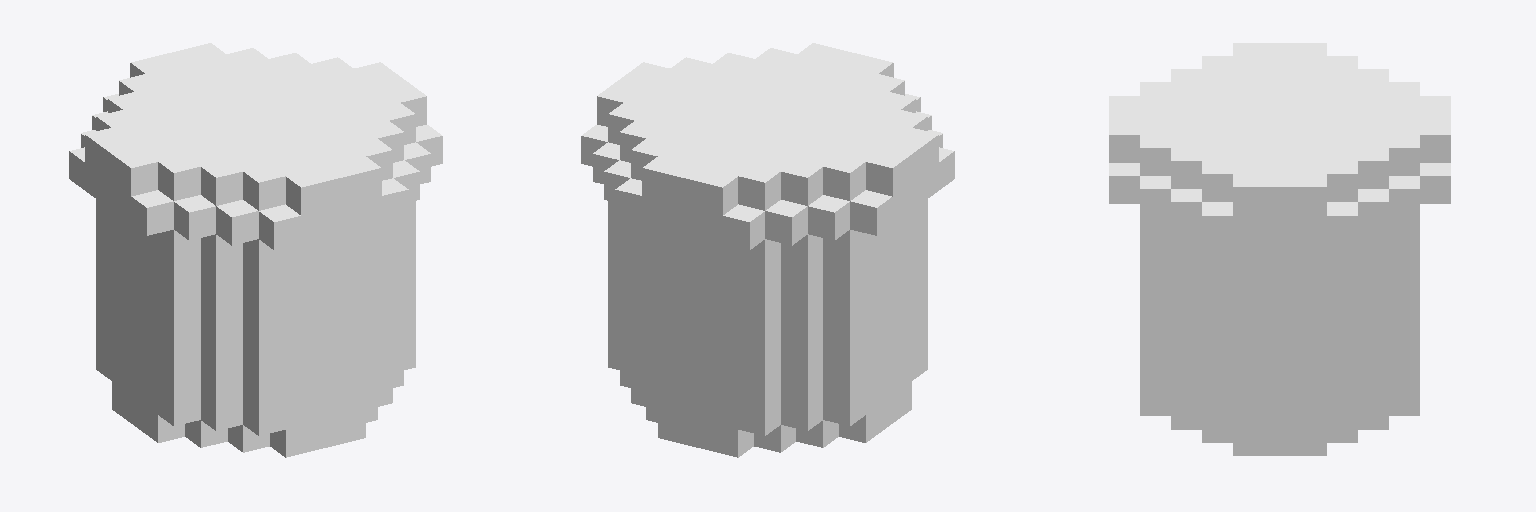
The model's file is confiot.obj.
The picture shows the model from 3 angles: view 1: azimuth 30°, elevation 25°; view 2: azimuth 150°, elevation 25°; view 3: azimuth 270°, elevation 25°; orthographic projection.
Visible parts, largest first — view 1: object 1; view 2: object 1; view 3: object 1.
Boxes of the visible parts, box(x1,y1,x2,y2) form: object 1: box(69, 43, 442, 457); object 1: box(581, 43, 954, 457); object 1: box(1109, 43, 1450, 455).
Size of the model in its own units: 1.1 by 1 by 1.1.